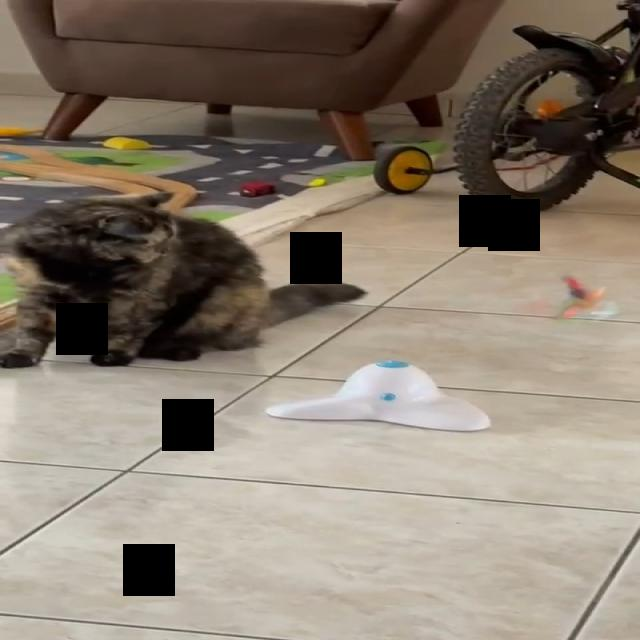authorized: (0, 190, 368, 368)
